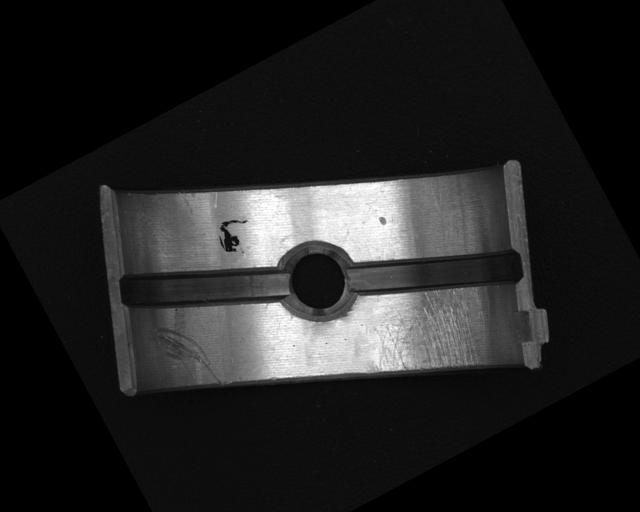blot: (210, 209, 260, 257)
bruise: (376, 213, 389, 227)
gap: (109, 207, 294, 365), (344, 194, 530, 351)
hole: (269, 231, 365, 327)
nick: (148, 310, 225, 404)
scratch: (352, 268, 512, 410)
